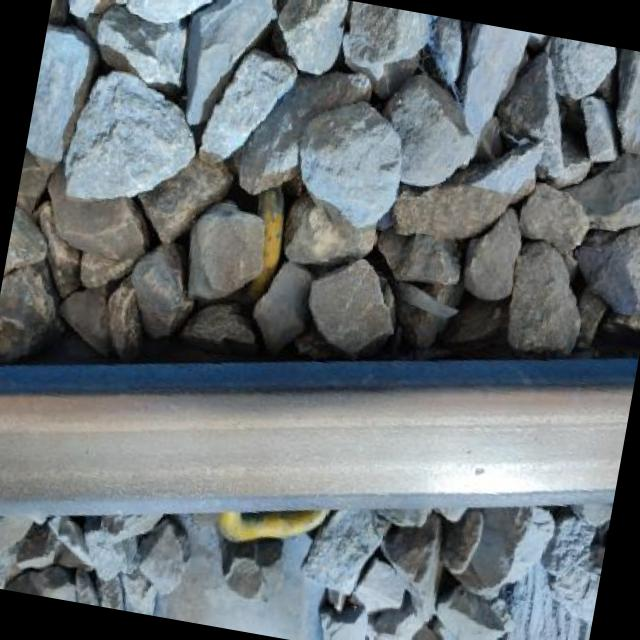non-defective: (0, 167, 637, 640)
